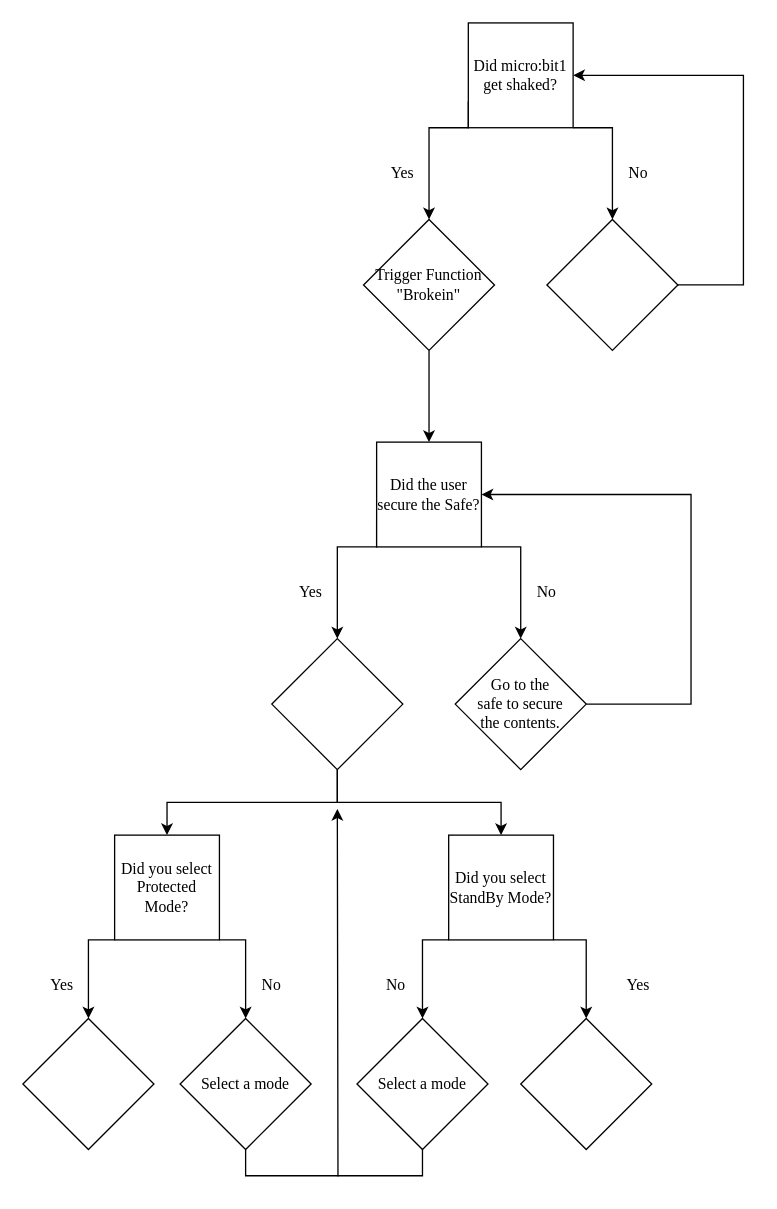
This 777x1209 diagram has some shape labels left out. The centre of each missing label's shape, as x and y in pixels:
"Carry your safe wherever you want without any alarm" goes at (585,1083).
"Continue with your daily routine" goes at (612,284).
"Switch to Protected Mode or StandBy Mode" goes at (337,703).
"Your Safe is now secured, you will be alerted if it's broken into" goes at (88,1083).
